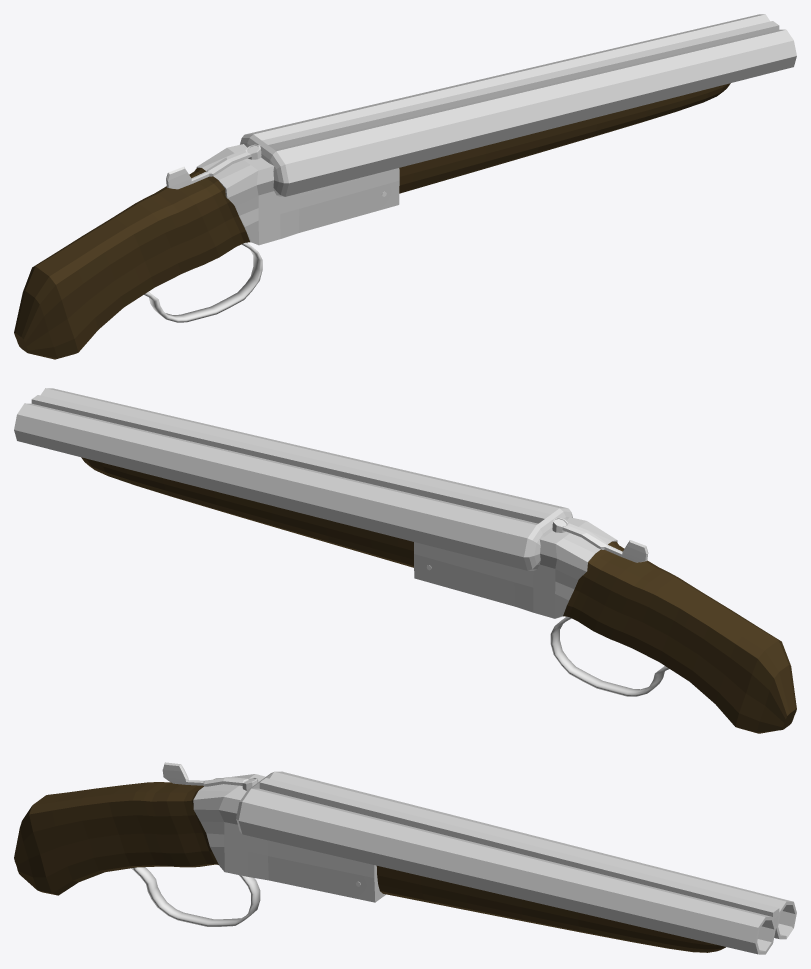
Rendered from w_doublesawedoff.fbx.
3 views of the same model, one above another, from view 1: azimuth 30°, elevation 25°; view 2: azimuth 150°, elevation 25°; view 3: azimuth 330°, elevation 25° (orthographic).
Visible parts, largest first — view 1: boomstick; view 2: boomstick; view 3: boomstick.
Part boxes in pixels (x1,y1,x2,y2): boomstick: (14,14,796,359); boomstick: (14,388,796,733); boomstick: (14,762,796,954).
Size of the model in its own units: 497 by 101 by 54.98.
